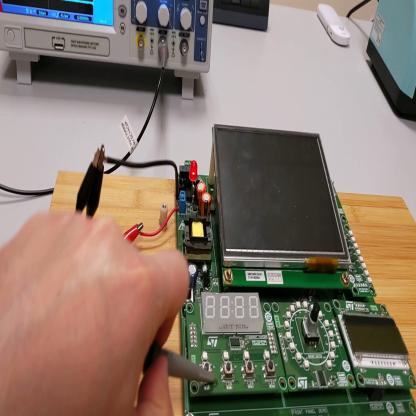hand: (2, 209, 192, 415)
low voltage board: (105, 123, 416, 416)
oscilloscope: (2, 3, 214, 101)
oscilloscope probe tip: (140, 351, 218, 389)
welder station: (366, 3, 415, 119)
